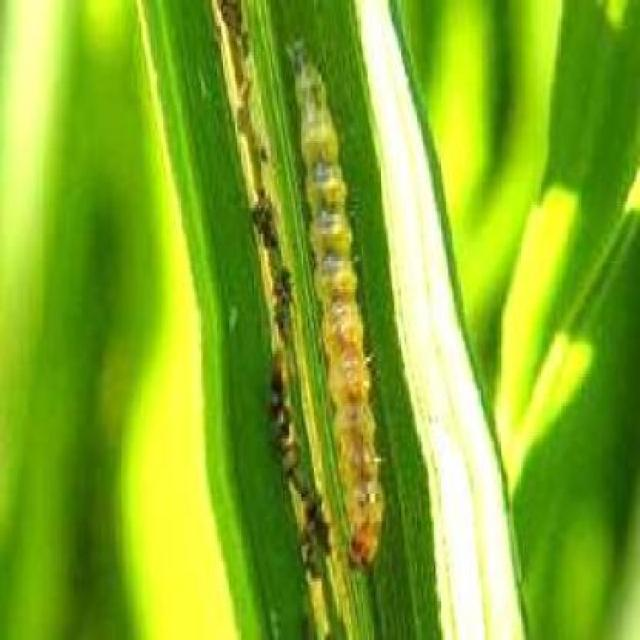leaf-folder: (255, 24, 402, 582)
